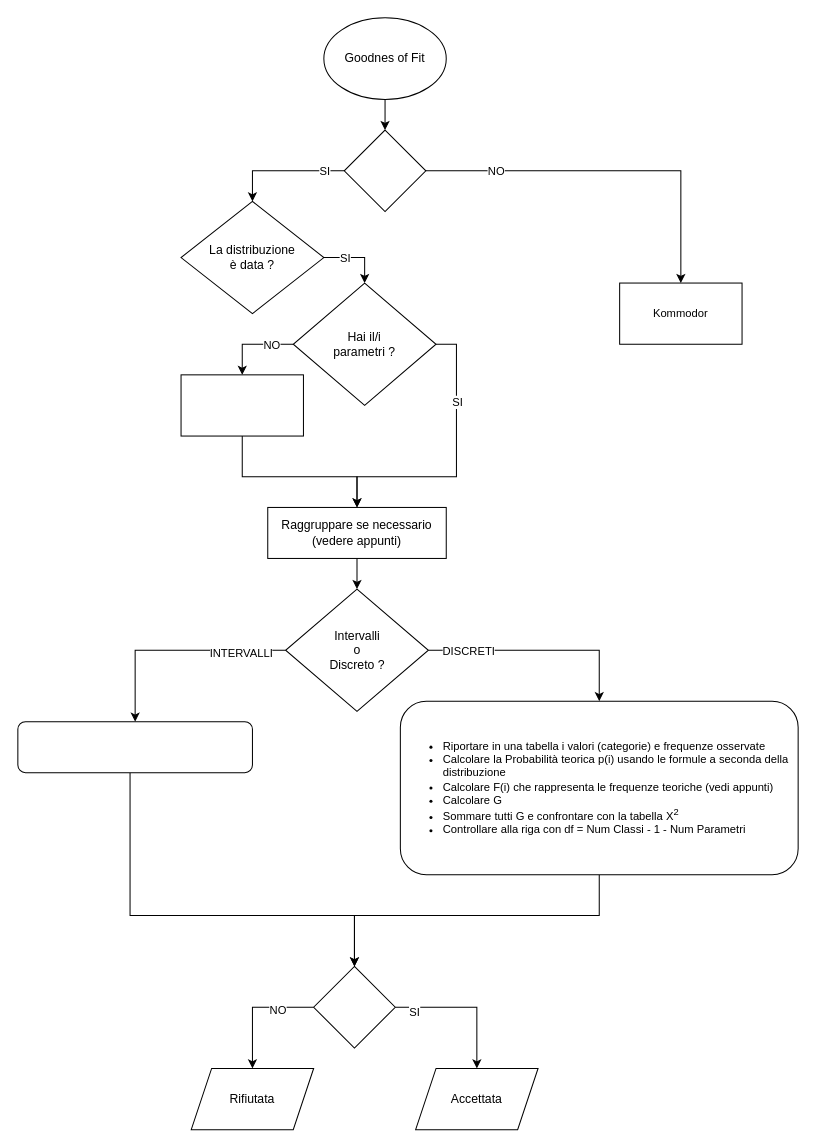
This 816x1148 diagram has some shape labels left out. Here are the shapes that lost their labels. From the top down, the centre of each, then its label:
At (384,170): "n > 30".
At (241,405): "Calcolali".
At (134,747): "TODO".
At (354,1006): "G < P95".
